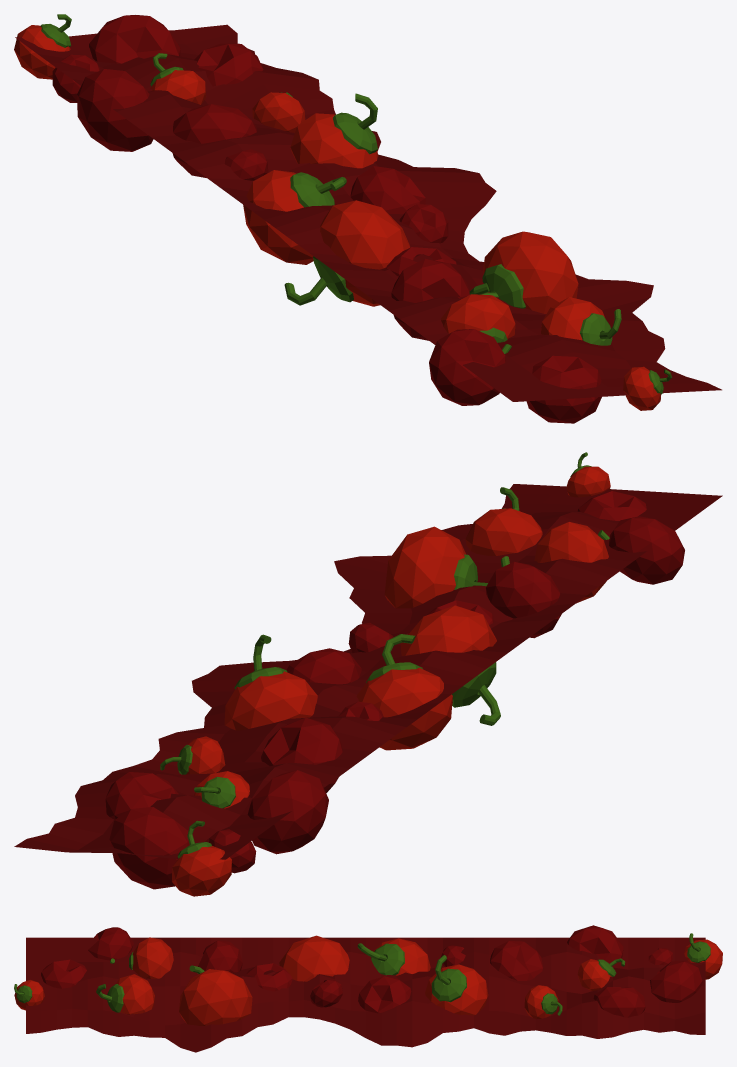
Rendered from PepperTile_PlainSide01.fbx.
3 views of the same model, one above another, from view 1: azimuth 30°, elevation 25°; view 2: azimuth 150°, elevation 25°; view 3: azimuth 270°, elevation 25° (orthographic). The views are drawn at different scales.
Visible parts, largest first — view 1: Plane, Plane|Icosphere|Dupli|27.0.0.0.0.0.0.0.0.0, Plane|Icosphere|Dupli|4.0.0.0.0.0.0.0.0.0, Plane|Icosphere|Dupli|5.0.0.0.0.0.0.0.0.0, Plane|Icosphere.001|Dupli|0.1.0.0.0.0.0.0.0.0, Plane|Icosphere|Dupli|6.0.0.0.0.0.0.0.0.0, Plane|Icosphere.001|Dupli|19.1.0.0.0.0.0.0.0.004, Plane|Icosphere.001|Dupli|8.1.0.0.0.0.0.0.0.001, Plane|Icosphere.001|Dupli|49.1.0.0.0.0.0.0.0.0, Plane|Icosphere.001|Dupli|9.1.0.0.0.0.0.0.0.0, Plane|Icosphere.001|Dupli|17.1.0.0.0.0.0.0.0.0, Plane|Icosphere|Dupli|5.0.0.0.0.0.0.0.0.001 (+11 smaller); view 2: Plane, Plane|Icosphere|Dupli|27.0.0.0.0.0.0.0.0.0, Plane|Icosphere|Dupli|5.0.0.0.0.0.0.0.0.0, Plane|Icosphere.001|Dupli|0.1.0.0.0.0.0.0.0.0, Plane|Icosphere|Dupli|4.0.0.0.0.0.0.0.0.0, Plane|Icosphere.001|Dupli|8.1.0.0.0.0.0.0.0.001, Plane|Icosphere|Dupli|6.0.0.0.0.0.0.0.0.0, Plane|Icosphere.001|Dupli|19.1.0.0.0.0.0.0.0.004, Plane|Icosphere.001|Dupli|9.1.0.0.0.0.0.0.0.0, Plane|Icosphere|Dupli|5.0.0.0.0.0.0.0.0.001, Plane|Icosphere.001|Dupli|17.1.0.0.0.0.0.0.0.0, Plane|Icosphere|Dupli|6.0.0.0.0.0.0.0.0.003 (+9 smaller); view 3: Plane, Plane|Icosphere|Dupli|27.0.0.0.0.0.0.0.0.0, Plane|Icosphere|Dupli|6.0.0.0.0.0.0.0.0.0, Plane|Icosphere|Dupli|4.0.0.0.0.0.0.0.0.0, Plane|Icosphere|Dupli|5.0.0.0.0.0.0.0.0.0, Plane|Icosphere.001|Dupli|8.1.0.0.0.0.0.0.0.001, Plane|Icosphere|Dupli|5.0.0.0.0.0.0.0.0.001, Plane|Icosphere.001|Dupli|17.1.0.0.0.0.0.0.0.0, Plane|Icosphere|Dupli|5.0.0.0.0.0.0.0.0.002, Plane|Icosphere.001|Dupli|8.1.0.0.0.0.0.0.0.0, Plane|Icosphere.001|Dupli|0.1.0.0.0.0.0.0.0.0, Plane|Icosphere.001|Dupli|18.1.0.0.0.0.0.0.0.0 (+11 smaller).
Boxes of the visible parts, x1,y1,x2,y2 form: Plane: (15,24,721,401); Plane|Icosphere|Dupli|27.0.0.0.0.0.0.0.0.0: (469,231,578,313); Plane|Icosphere|Dupli|4.0.0.0.0.0.0.0.0.0: (284,200,410,306); Plane|Icosphere|Dupli|5.0.0.0.0.0.0.0.0.0: (243,170,346,264); Plane|Icosphere.001|Dupli|0.1.0.0.0.0.0.0.0.0: (77,69,153,151); Plane|Icosphere|Dupli|6.0.0.0.0.0.0.0.0.0: (290,93,378,168); Plane|Icosphere.001|Dupli|19.1.0.0.0.0.0.0.0.004: (429,329,505,405); Plane|Icosphere.001|Dupli|8.1.0.0.0.0.0.0.0.001: (89,15,180,63); Plane|Icosphere.001|Dupli|49.1.0.0.0.0.0.0.0.0: (526,355,601,423); Plane|Icosphere.001|Dupli|9.1.0.0.0.0.0.0.0.0: (391,258,469,340); Plane|Icosphere.001|Dupli|17.1.0.0.0.0.0.0.0.0: (172,104,256,177); Plane|Icosphere|Dupli|5.0.0.0.0.0.0.0.0.001: (541,297,621,345); Plane: (14,484,722,859); Plane|Icosphere|Dupli|27.0.0.0.0.0.0.0.0.0: (384,526,509,608); Plane|Icosphere|Dupli|5.0.0.0.0.0.0.0.0.0: (356,634,452,750); Plane|Icosphere.001|Dupli|0.1.0.0.0.0.0.0.0.0: (247,770,328,854); Plane|Icosphere|Dupli|4.0.0.0.0.0.0.0.0.0: (400,605,500,725); Plane|Icosphere.001|Dupli|8.1.0.0.0.0.0.0.0.001: (109,807,192,889); Plane|Icosphere|Dupli|6.0.0.0.0.0.0.0.0.0: (224,634,317,730); Plane|Icosphere.001|Dupli|19.1.0.0.0.0.0.0.0.004: (609,516,684,584); Plane|Icosphere.001|Dupli|9.1.0.0.0.0.0.0.0.0: (485,561,561,638); Plane|Icosphere|Dupli|5.0.0.0.0.0.0.0.0.001: (465,487,542,555); Plane|Icosphere.001|Dupli|17.1.0.0.0.0.0.0.0.0: (261,717,342,793); Plane|Icosphere|Dupli|6.0.0.0.0.0.0.0.0.003: (172,820,231,896); Plane: (26,937,705,1052); Plane|Icosphere|Dupli|27.0.0.0.0.0.0.0.0.0: (179,965,252,1025); Plane|Icosphere|Dupli|6.0.0.0.0.0.0.0.0.0: (425,955,488,1015); Plane|Icosphere|Dupli|4.0.0.0.0.0.0.0.0.0: (279,935,349,981); Plane|Icosphere|Dupli|5.0.0.0.0.0.0.0.0.0: (357,938,430,975); Plane|Icosphere.001|Dupli|8.1.0.0.0.0.0.0.0.001: (650,961,702,1002); Plane|Icosphere|Dupli|5.0.0.0.0.0.0.0.0.001: (96,974,154,1014); Plane|Icosphere.001|Dupli|17.1.0.0.0.0.0.0.0.0: (490,941,543,980); Plane|Icosphere|Dupli|5.0.0.0.0.0.0.0.0.002: (110,937,173,978); Plane|Icosphere.001|Dupli|8.1.0.0.0.0.0.0.0.0: (358,976,411,1013); Plane|Icosphere.001|Dupli|0.1.0.0.0.0.0.0.0.0: (567,925,623,963); Plane|Icosphere.001|Dupli|18.1.0.0.0.0.0.0.0.0: (593,987,645,1017).
Bounding box in the file's own units: 263 × 105 × 834.
2 materials, 2 textured.
